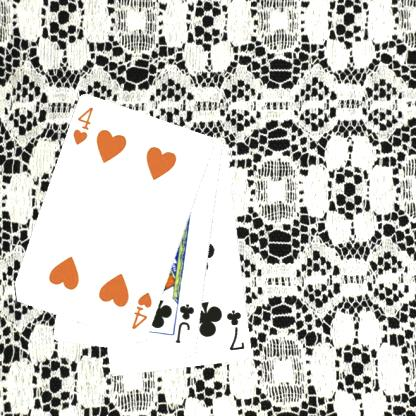4H: (70, 104, 95, 147), (128, 290, 154, 331)
7C: (224, 307, 246, 352)
JC: (173, 302, 196, 345)
